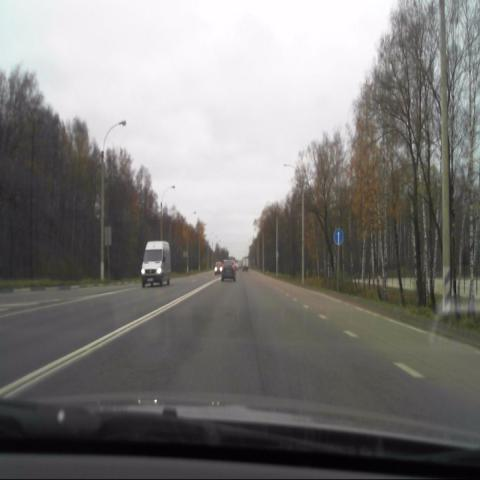4_1_1: (332, 226, 344, 246)
